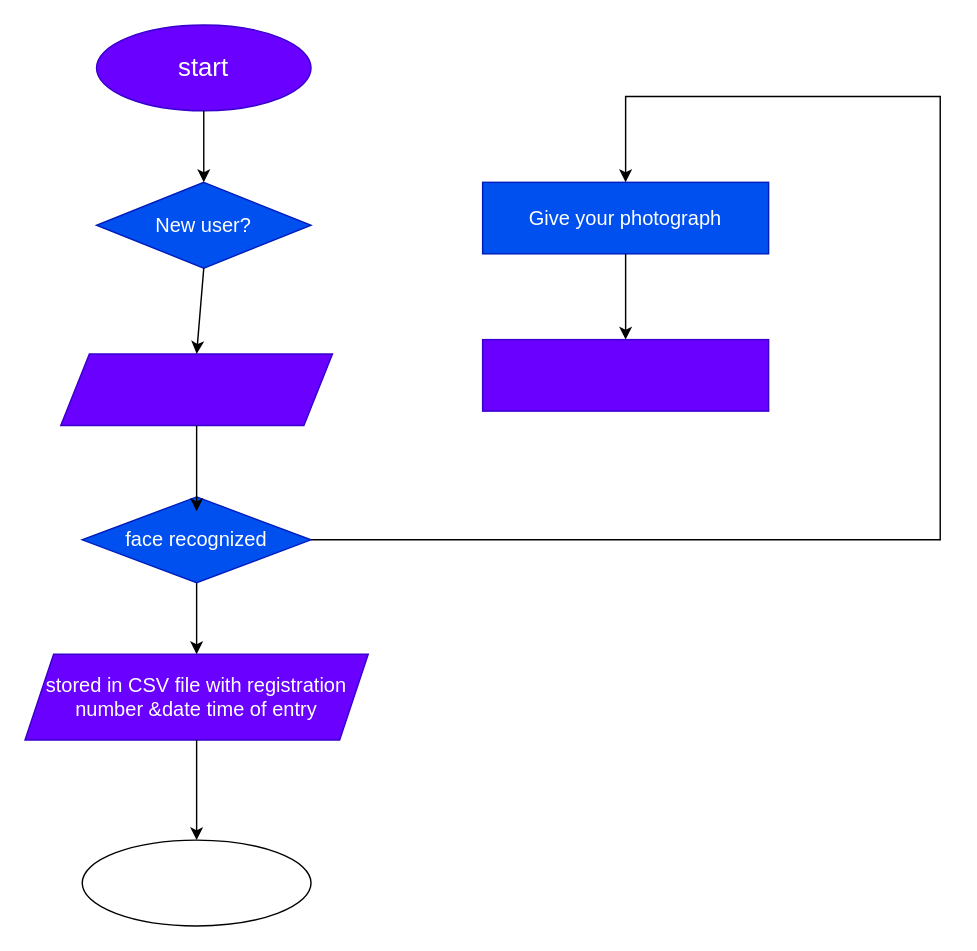
Image size: 977x951. Some labels were removed from this diagram. Here are the shapes that lost their labels. From the top down, the centre of each, then its label:
At [195,388]: "Reconize the face".
At [625,374]: "store the face data in folder on your name".
